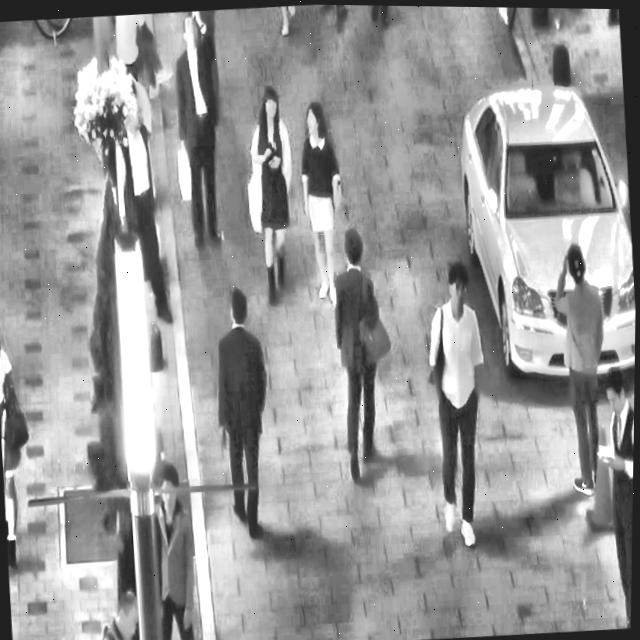light_vehicle: (445, 57, 639, 394)
